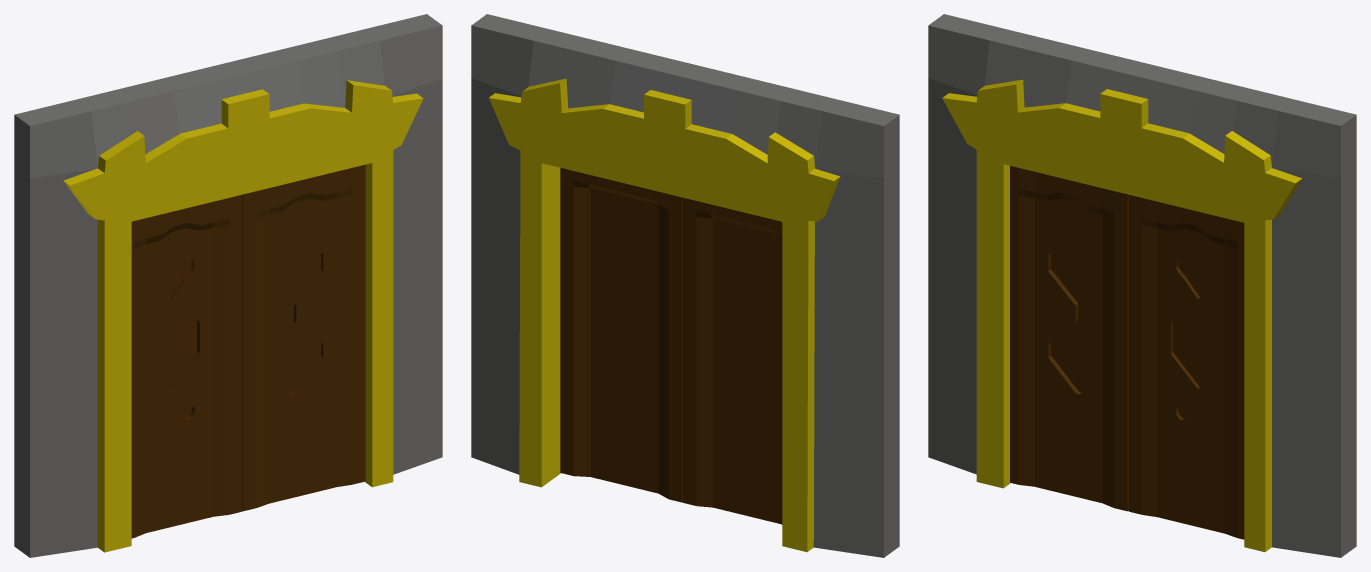
The model's file is MSH_Door_King.fbx.
3 renders of one model, left to right at view 1: azimuth 30°, elevation 25°; view 2: azimuth 150°, elevation 25°; view 3: azimuth 330°, elevation 25°, orthographic.
Visible parts, largest first — view 1: MSH_King_Door_Frame, MSH_King_Door_Right, MSH_King_Door_Left; view 2: MSH_King_Door_Frame, MSH_King_Door_Right, MSH_King_Door_Left; view 3: MSH_King_Door_Frame, MSH_King_Door_Left, MSH_King_Door_Right.
Part boxes in pixels (box(x1,y1,x2,y2)): MSH_King_Door_Frame: box(14, 14, 442, 557); MSH_King_Door_Right: box(242, 164, 365, 511); MSH_King_Door_Left: box(131, 194, 242, 538); MSH_King_Door_Frame: box(471, 14, 899, 557); MSH_King_Door_Right: box(560, 168, 682, 502); MSH_King_Door_Left: box(683, 197, 782, 524); MSH_King_Door_Frame: box(928, 14, 1356, 557); MSH_King_Door_Left: box(1010, 166, 1128, 511); MSH_King_Door_Right: box(1128, 195, 1244, 539).
Bounding box in the file's own units: 300 × 300 × 53.12.
